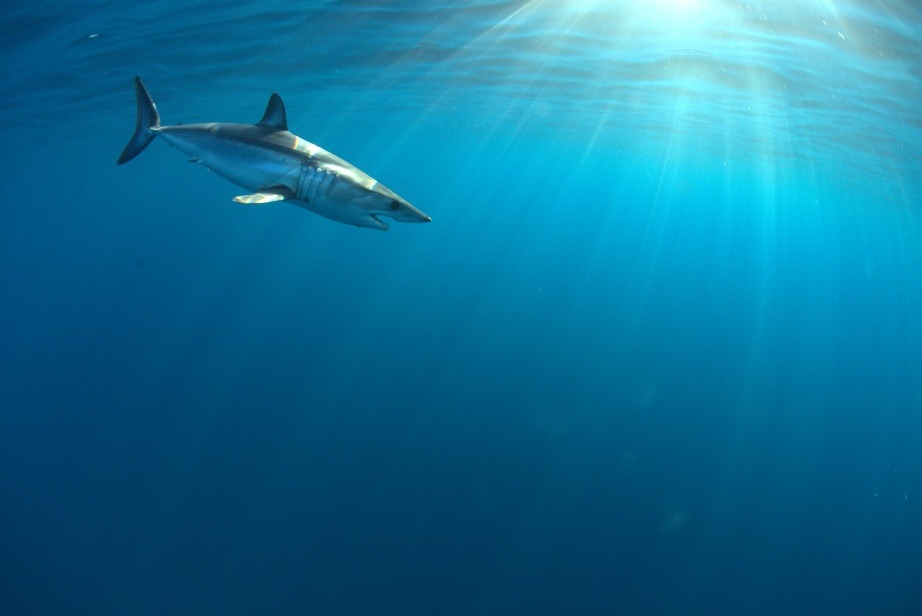Mako: (106, 65, 440, 252)
